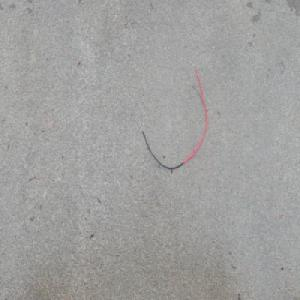Wire: (134, 57, 208, 171)
